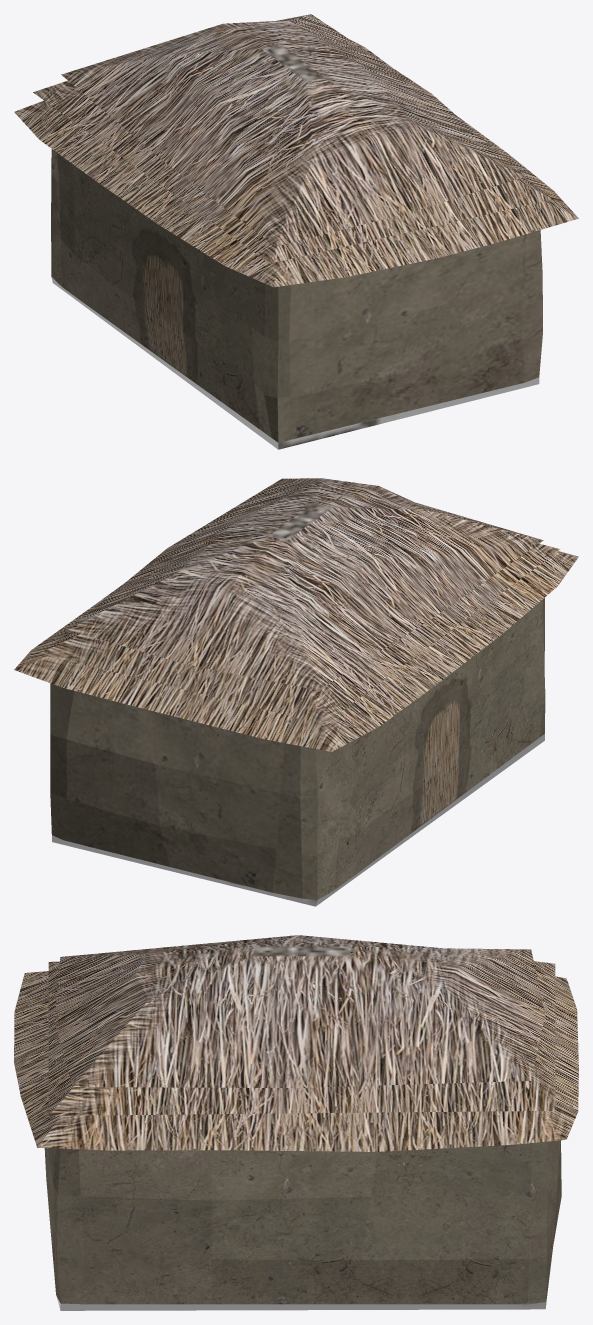
The model's file is choza_01.fbx.
3 renders of one model, top to bottom at view 1: azimuth 30°, elevation 25°; view 2: azimuth 150°, elevation 25°; view 3: azimuth 270°, elevation 25°, orthographic. The views are drawn at different scales.
Parts seen in each view (by area): view 1: Cube; view 2: Cube; view 3: Cube.
Boxes of the visible parts, x1,y1,x2,y2 form: Cube: [14, 14, 578, 449]; Cube: [14, 478, 578, 906]; Cube: [14, 935, 578, 1310].
Size of the model in its own units: 517 by 391 by 690.
